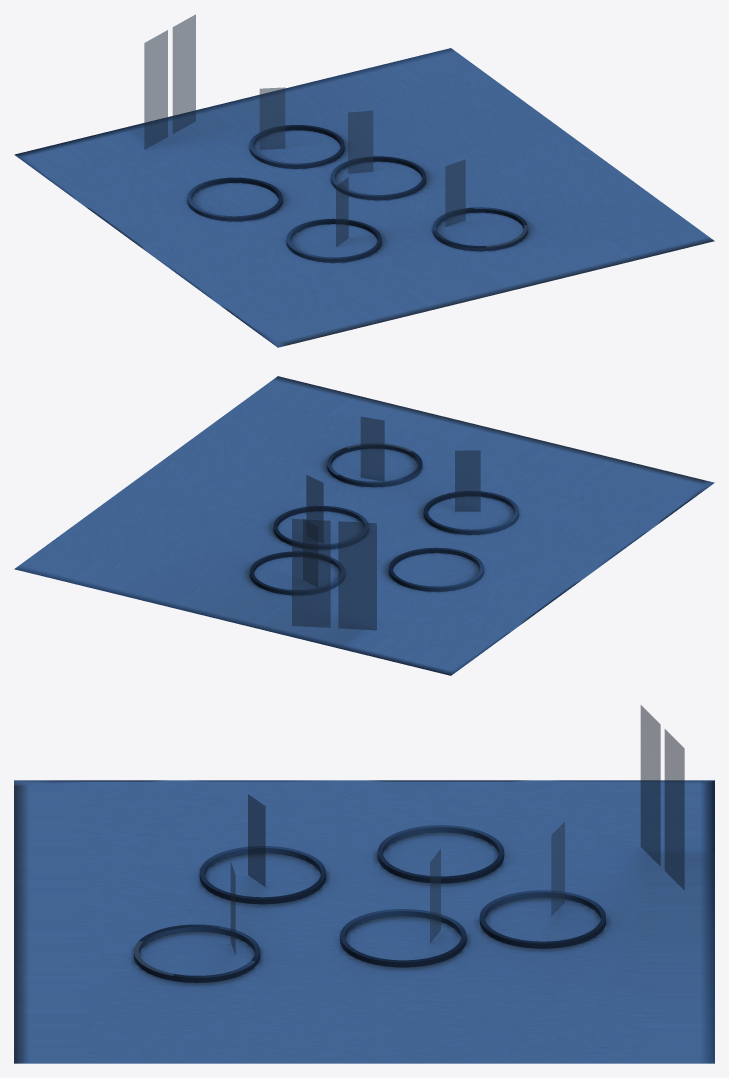
Rendered from room_1.glb.
3 views of the same model, one above another, from view 1: azimuth 30°, elevation 25°; view 2: azimuth 150°, elevation 25°; view 3: azimuth 270°, elevation 25° (orthographic). The views are drawn at different scales.
Visible parts, largest first — view 1: ground.001, Plane.007, Plane.006, Plane.004, Plane.001, Circle.004, Circle.001, Circle.002, Circle.005, Circle.003, Plane.005; view 2: ground.001, Plane.007, Plane.005, Plane.001, Circle.002, Circle.001, Circle.004, Circle.003, Circle.005, Plane.004, Plane.006; view 3: ground.001, Plane.007, Circle.001, Circle.005, Circle.004, Circle.003, Circle.002, Plane.005, Plane.006, Plane.004.
Boxes of the visible parts, <box> form: ground.001: <box>14,48,714,347</box>; Plane.007: <box>144,14,195,149</box>; Plane.006: <box>259,87,285,149</box>; Plane.004: <box>348,110,373,173</box>; Plane.001: <box>445,159,465,226</box>; Circle.004: <box>187,177,282,221</box>; Circle.001: <box>432,207,527,251</box>; Circle.002: <box>286,218,381,262</box>; Circle.005: <box>249,125,344,168</box>; Circle.003: <box>331,156,425,200</box>; Plane.005: <box>336,177,348,247</box>; ground.001: <box>14,376,714,675</box>; Plane.007: <box>292,518,376,630</box>; Plane.005: <box>455,450,480,511</box>; Plane.001: <box>360,416,384,481</box>; Circle.002: <box>423,491,518,534</box>; Circle.001: <box>327,443,422,486</box>; Circle.004: <box>389,547,483,591</box>; Circle.003: <box>273,506,368,549</box>; Circle.005: <box>250,551,344,595</box>; Plane.004: <box>306,475,323,543</box>; Plane.006: <box>303,518,317,587</box>; ground.001: <box>14,780,714,1063</box>; Plane.007: <box>640,705,684,890</box>; Circle.001: <box>134,924,260,982</box>; Circle.005: <box>479,890,605,948</box>; Circle.004: <box>377,825,504,883</box>; Circle.003: <box>340,909,466,967</box>; Circle.002: <box>199,846,325,904</box>; Plane.005: <box>248,794,265,886</box>; Plane.006: <box>551,822,564,915</box>; Plane.004: <box>430,849,440,942</box>.
Size of the model in its own units: 14.95 by 3.5 by 15.64.
Materials: 4 (4 with a texture image).
